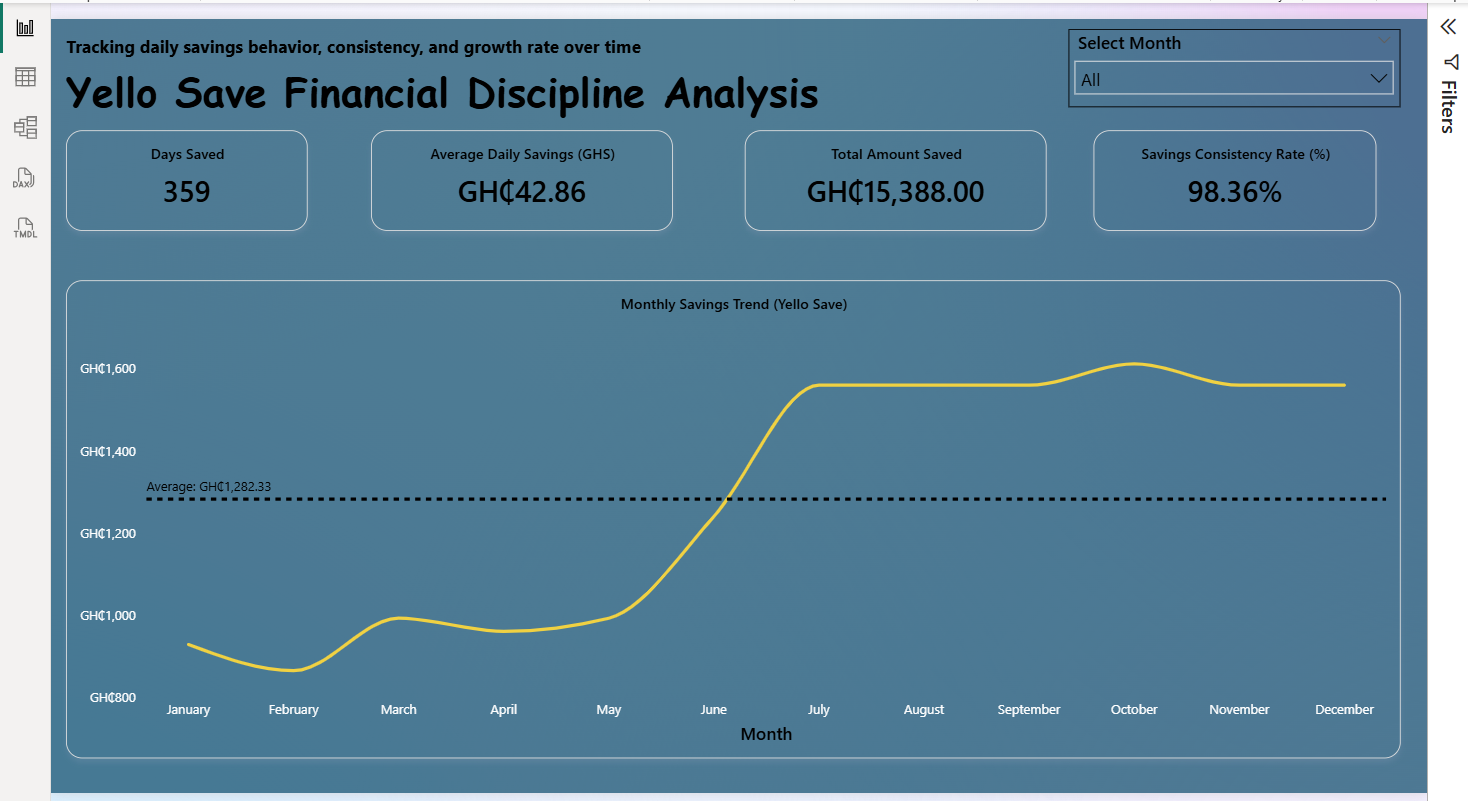

The page's visual inventory and layout, read from the dashboard file:
{"tool":"powerbi","page":{"name":"Yello Save","canvas":[1280,720],"ordinal":2},"visuals":[{"type":"card","title":"Total Amount Saved","fields":{"Values":["Calculated Measures.Total Yello Save Savings"]},"box":[645.7,103.7,281,93.7],"z":0},{"type":"card","title":"Days Saved","fields":{"Values":["Calculated Measures.Total Yello Save Transactions"]},"box":[13.7,103.7,224.8,93.7],"z":1000},{"type":"card","title":"Average Daily Savings (GHS)","fields":{"Values":["Calculated Measures.Average Daily Savings"]},"box":[297.3,103.7,281,93.7],"z":2000},{"type":"card","title":"Savings Consistency Rate (%)","fields":{"Values":["Calculated Measures.Savings Consistency %"]},"box":[969.2,103.7,263.5,93.7],"z":3000},{"type":"lineChart","title":"Monthly Savings Trend (Yello Save)","fields":{"Y":["Calculated Measures.Total Yello Save Savings"],"Category":["MoMo_Transactions.TRANSACTION DATE.Variation.Date Hierarchy.Month"]},"box":[13.7,243.6,1241.5,444.7],"z":4000},{"type":"textbox","box":[9.3,9.3,776.7,94.2],"z":5000},{"type":"slicer","title":"Select Month","fields":{"Values":["MoMo_Transactions.Month Name"]},"box":[946.8,8.7,308.5,72.4],"z":6000}]}

Visuals, with their boxes on the page's 1280x720 design canvas (x1, y1, x2, y2). These are canvas units, not pixel positions in the 1468x801 screenshot, which may show the page scaled, cropped or inside an application window:
"Total Amount Saved" card: select_region(646, 104, 927, 197)
"Days Saved" card: select_region(14, 104, 238, 197)
"Average Daily Savings (GHS)" card: select_region(297, 104, 578, 197)
"Savings Consistency Rate (%)" card: select_region(969, 104, 1233, 197)
"Monthly Savings Trend (Yello Save)" lineChart: select_region(14, 244, 1255, 688)
textbox: select_region(9, 9, 786, 104)
"Select Month" slicer: select_region(947, 9, 1255, 81)
